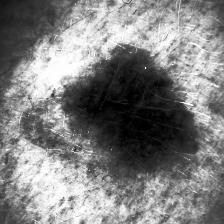Benign Marking or Mole: (70, 57, 198, 167)
